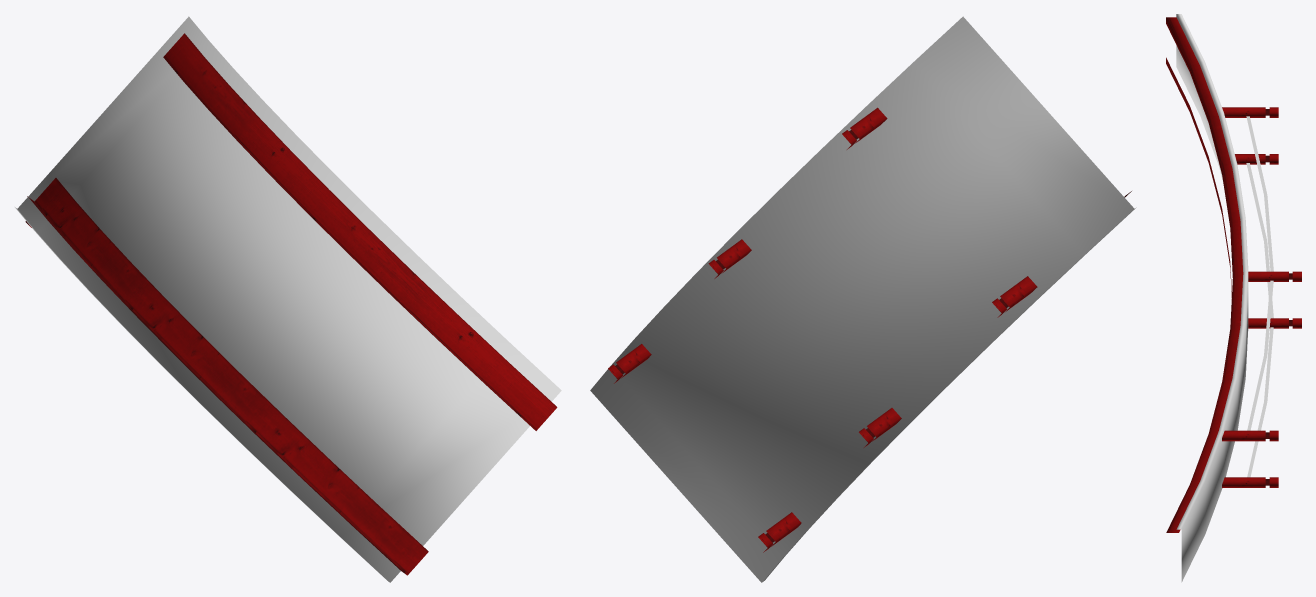
The model's file is bridge_LOD150.glb.
3 renders of one model, left to right at view 1: azimuth 30°, elevation 25°; view 2: azimuth 150°, elevation 25°; view 3: azimuth 270°, elevation 25°, orthographic. The views are drawn at different scales.
Parts seen in each view (by area): view 1: stktex_generic_WoodA.png__, japanRedWood.jpg__, JapanwoodBridge.jpg__; view 2: stktex_generic_WoodA.png__, japanRedWood.jpg__; view 3: japanRedWood.jpg__, stktex_generic_WoodA.png__.
Part boxes in pixels (x1=…): stktex_generic_WoodA.png__: x1=15, y1=16, x2=561, y2=582; japanRedWood.jpg__: x1=25, y1=33, x2=557, y2=575; JapanwoodBridge.jpg__: x1=27, y1=196, x2=406, y2=574; stktex_generic_WoodA.png__: x1=590, y1=16, x2=1136, y2=582; japanRedWood.jpg__: x1=608, y1=107, x2=1037, y2=552; japanRedWood.jpg__: x1=1166, y1=17, x2=1301, y2=532; stktex_generic_WoodA.png__: x1=1176, y1=14, x2=1273, y2=582.
Size of the model in its own units: 19.45 by 21.02 by 5.27.
Materials: 3 (2 with a texture image).
